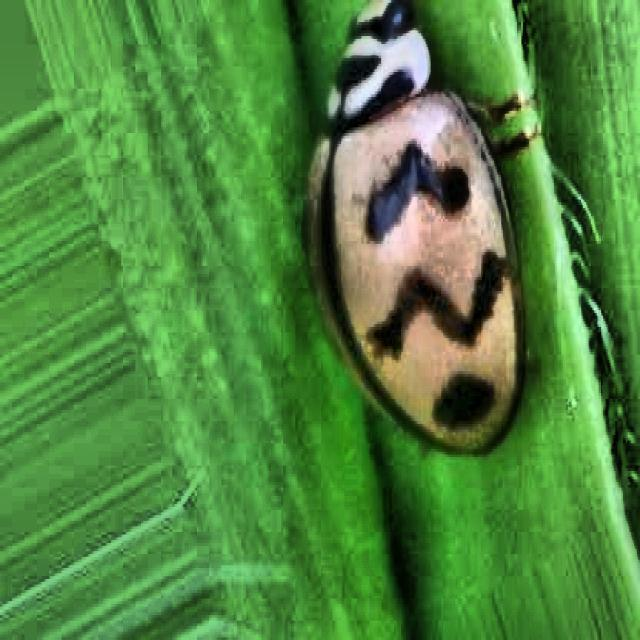Asian-Lady-beetle: (279, 8, 551, 457)
